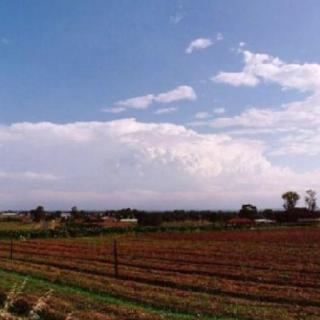Stratus: (0, 0, 320, 213)
